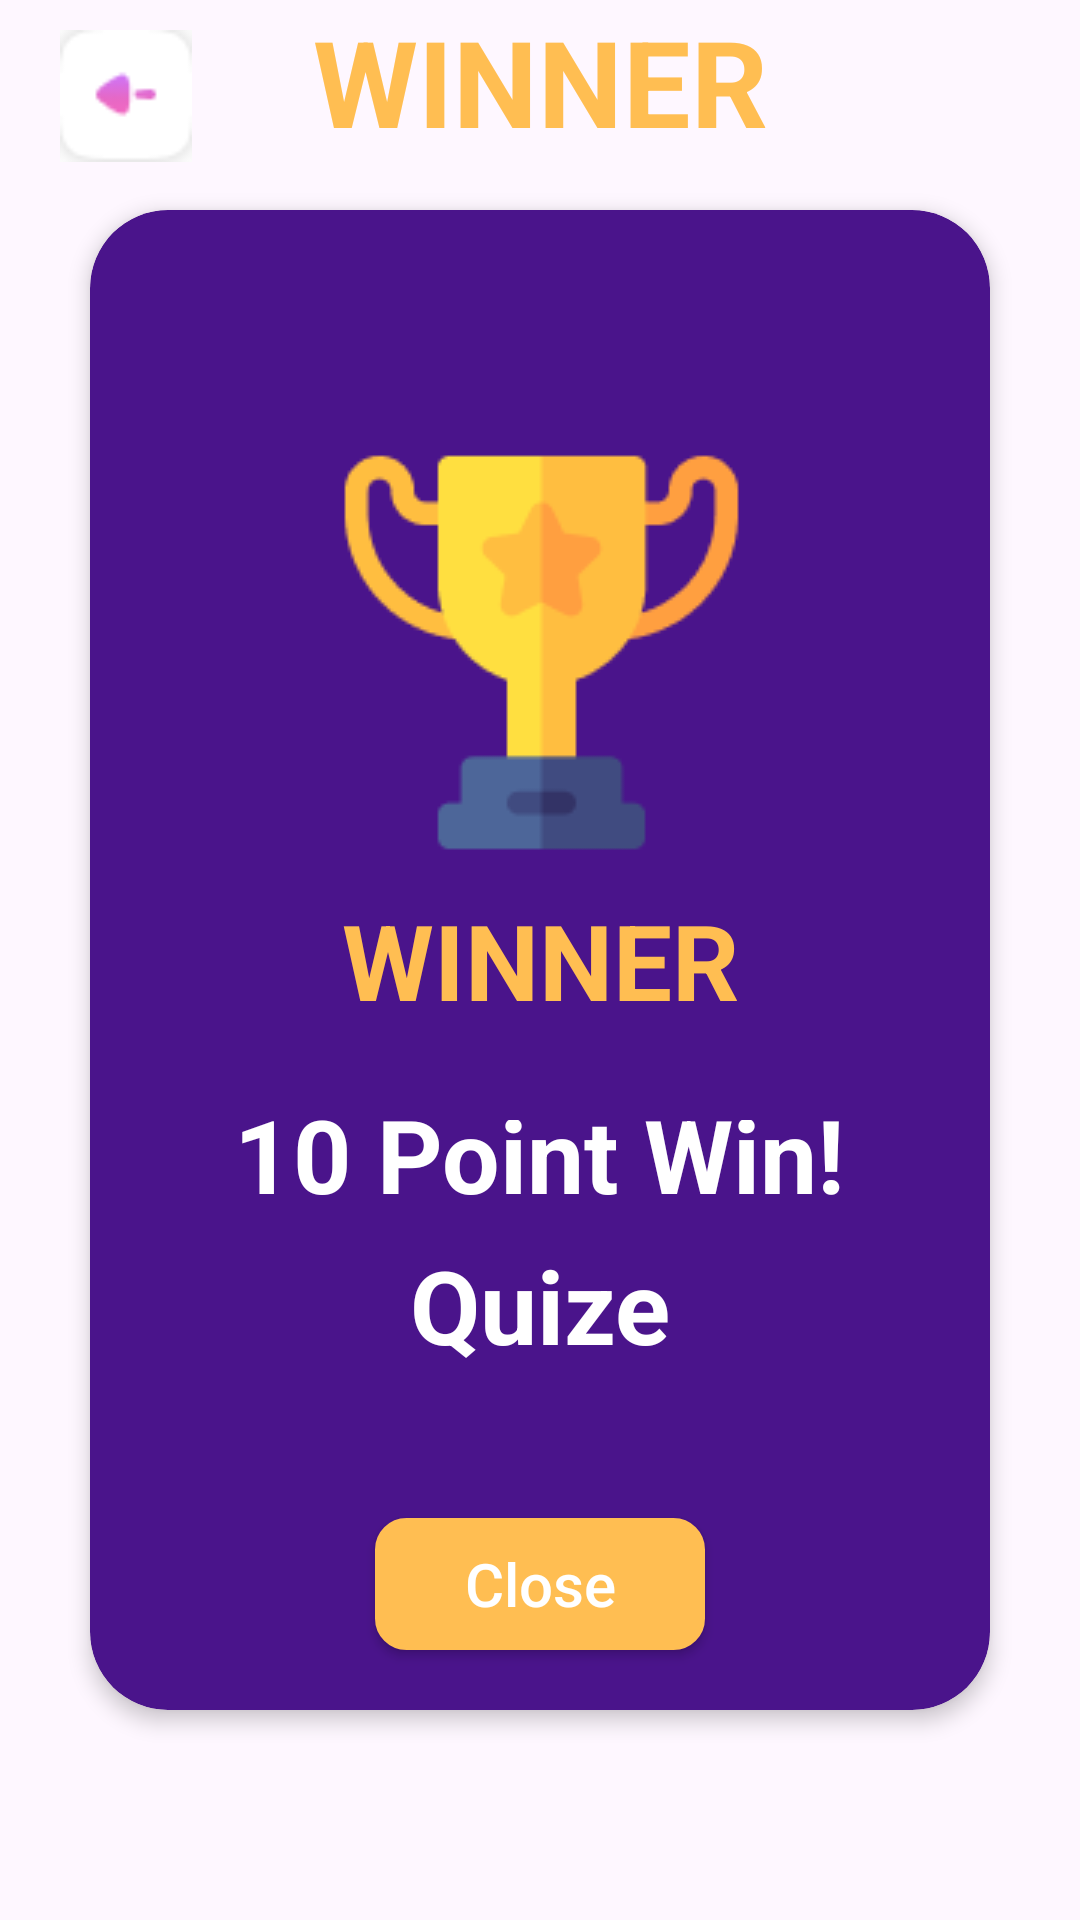

Icon bounding boxes for this 1080*1920 phone screenshot, format box(x1, y1, x2, y2):
arrow: box(95, 73, 157, 116)
